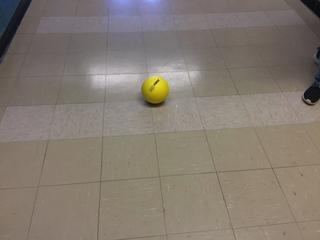power_cell: (136, 73, 176, 108)
